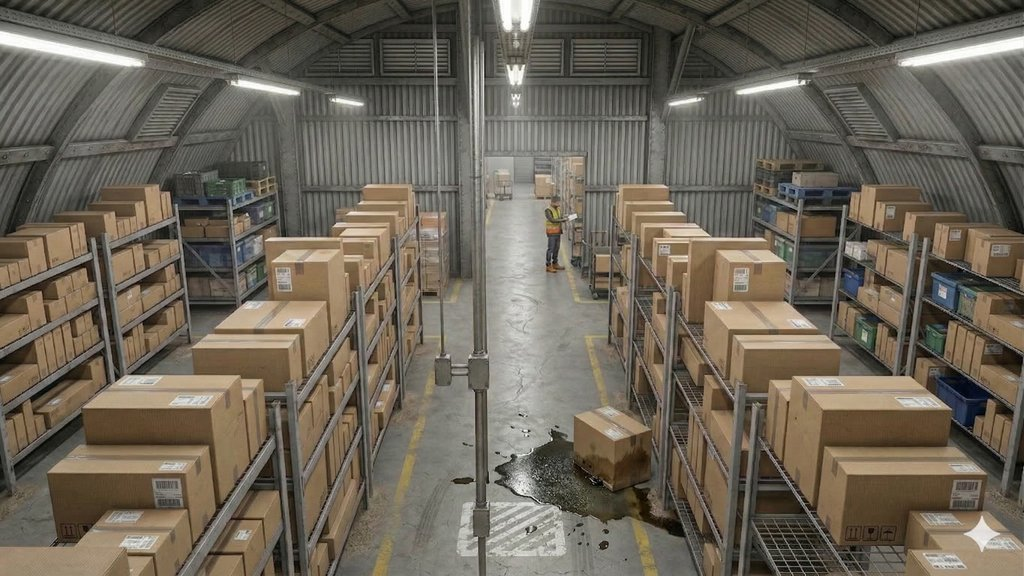empty_shelf: (754, 469, 835, 576)
person: (533, 186, 578, 277)
safety_vest: (543, 203, 564, 240)
spill: (484, 392, 688, 544)
